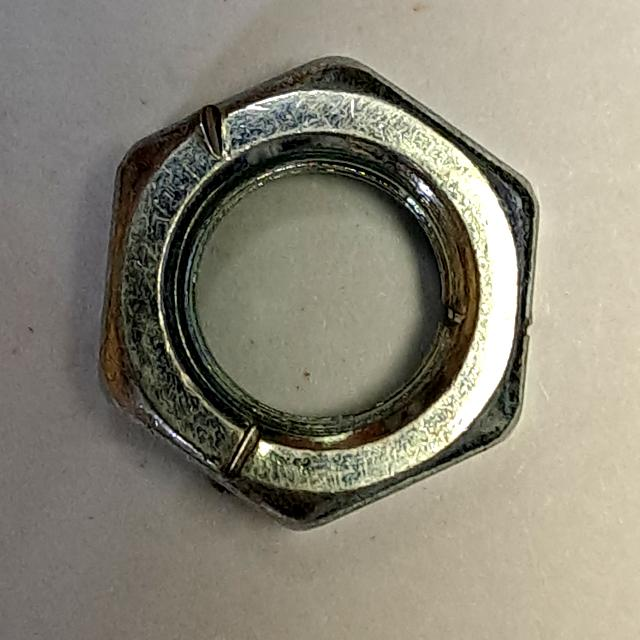Scratches: (83, 45, 556, 549)
